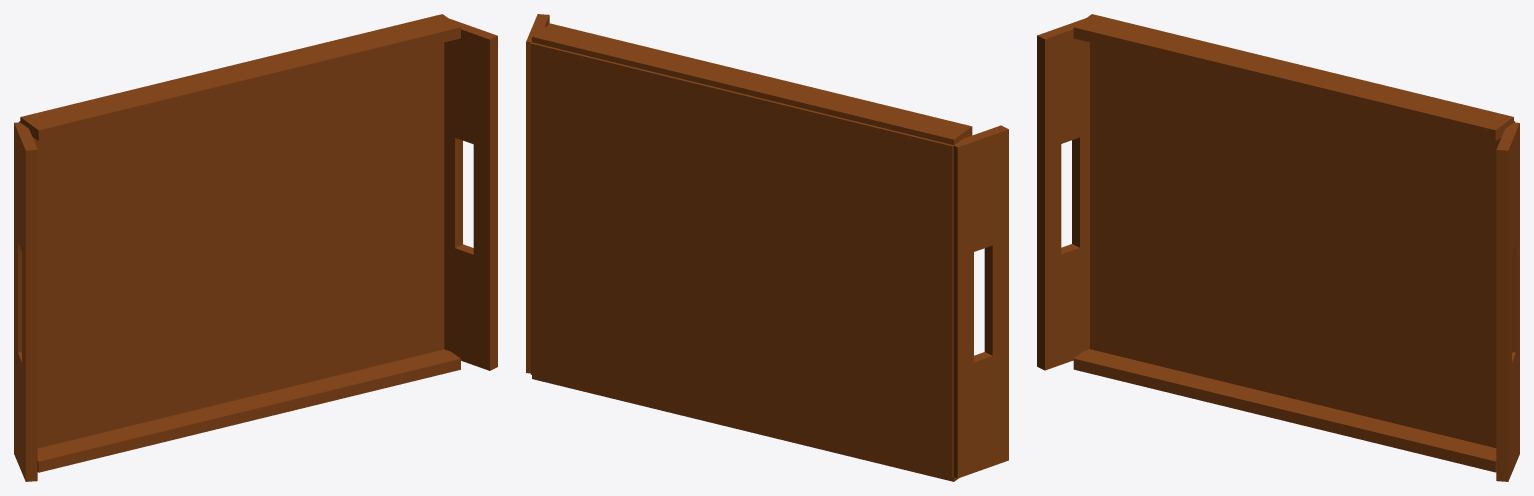
Rendered from nil_link_mesh.dae.
3 renders of one model, left to right at view 1: azimuth 30°, elevation 25°; view 2: azimuth 150°, elevation 25°; view 3: azimuth 330°, elevation 25°, orthographic.
Parts seen in each view (by area): view 1: nil_link (×5); view 2: nil_link (×5); view 3: nil_link (×5).
Part boxes in pixels (x1,y1,x2,y2): nil_link (×5): [14, 14, 497, 481]; nil_link (×5): [526, 14, 1008, 481]; nil_link (×5): [1037, 14, 1519, 481].
Bounding box in the file's own units: 0.447 × 0.31 × 0.0559.
